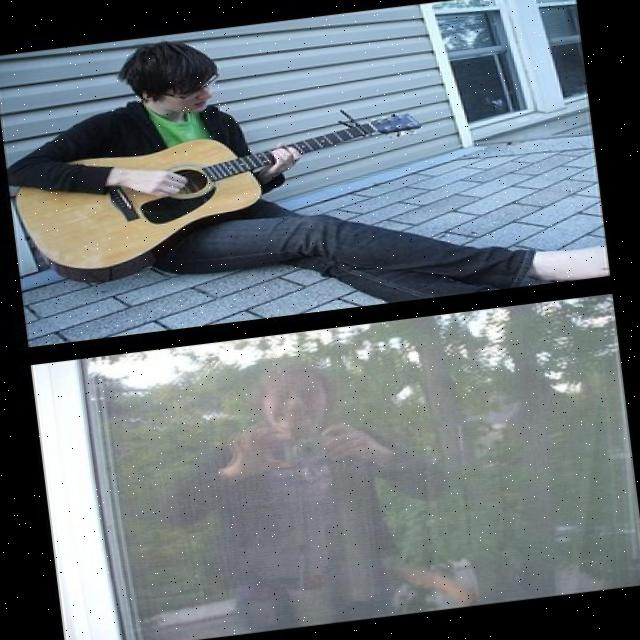guitar: (8, 105, 445, 288)
